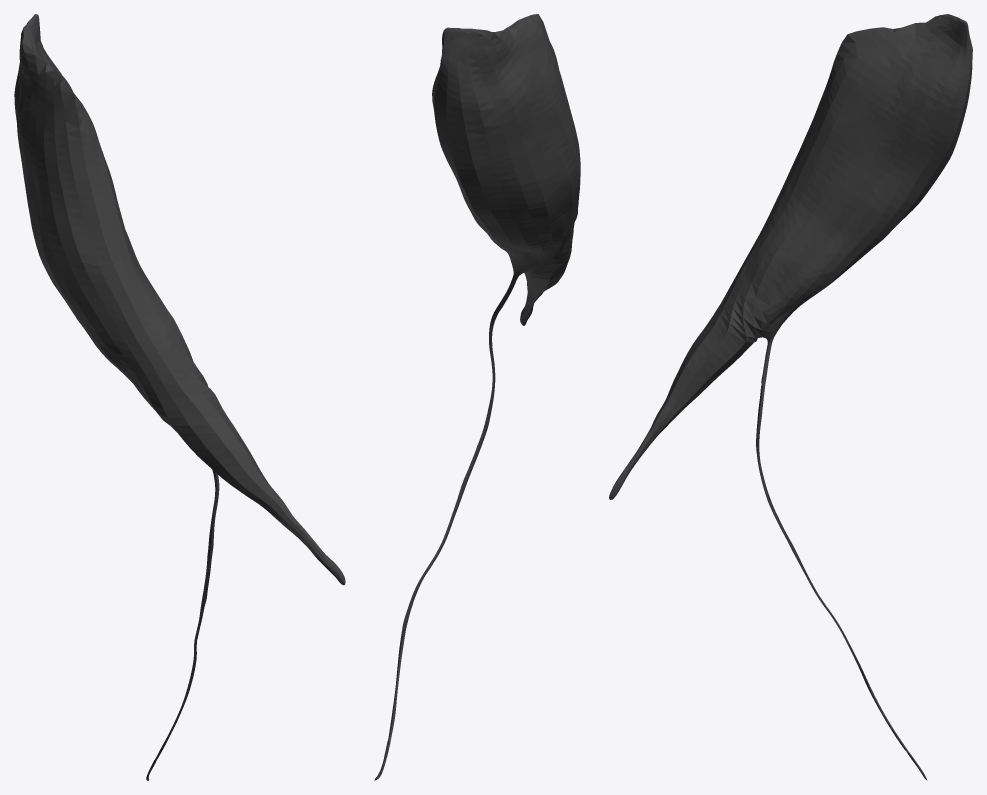
File: Gracilis.glb
3 views of the same model, side by side, from view 1: azimuth 30°, elevation 25°; view 2: azimuth 150°, elevation 25°; view 3: azimuth 270°, elevation 25° (orthographic). The views are drawn at different scales.
Parts seen in each view (by area): view 1: Gracilis; view 2: Gracilis; view 3: Gracilis.
Part boxes in pixels (<box>): Gracilis: <box>14,14,345,780</box>; Gracilis: <box>374,14,580,780</box>; Gracilis: <box>609,14,972,780</box>.
Bounding box in the file's own units: 3.04 × 12.9 × 5.92.
Materials: 1 (1 with a texture image).
